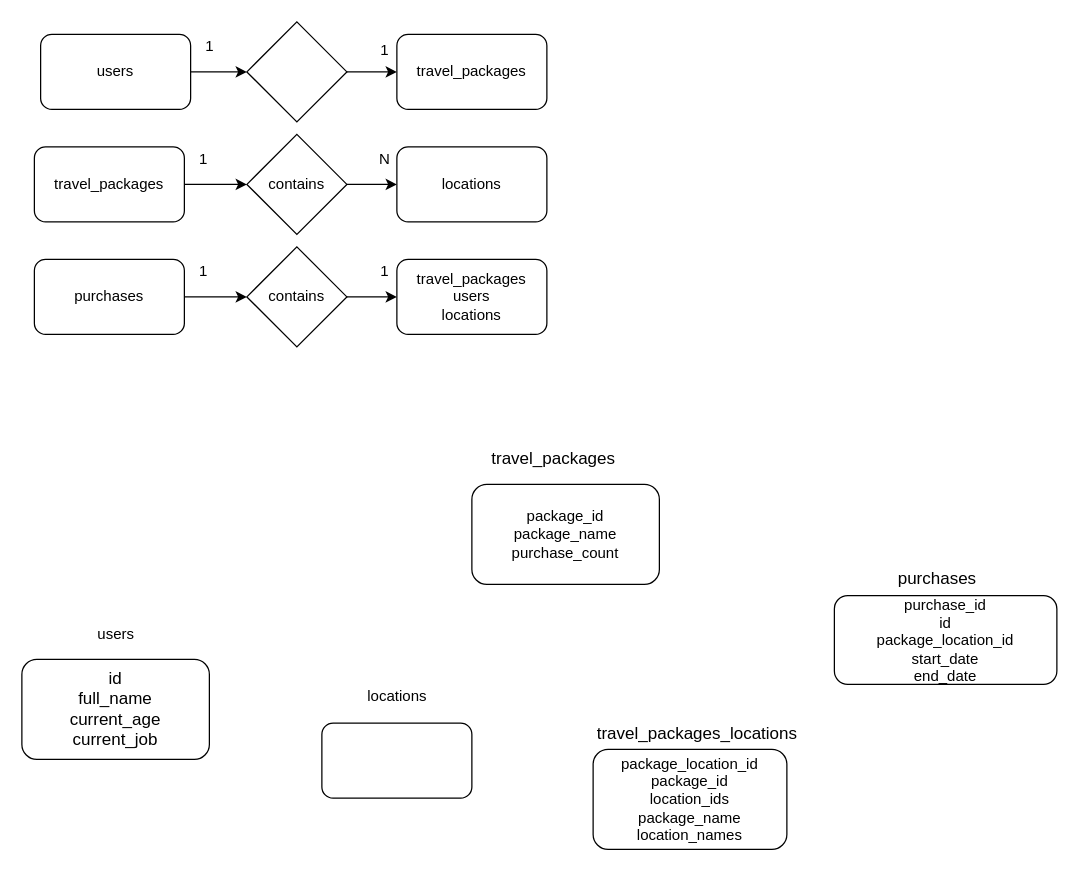
This 1079x871 diagram has some shape labels left out. Here are the shapes that lost their labels. From the top down, the centre of each, then its label:
point (296, 71): buys
point (396, 760): location_id location_name
